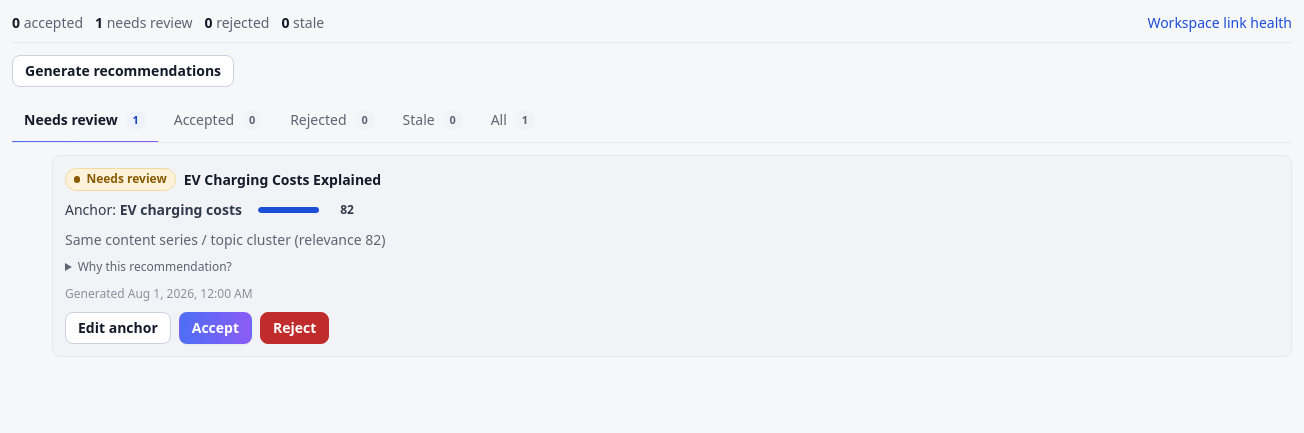
InternalLinkRecommendations › expands the evidence disclosure to show structured, non-JSON factors
This screenshot has width=1304, height=433.
Expected: the text "EV Charging Costs Explained" is shown, [184,169,381,190]
Click the heading "Why this recommendation?" at (155,267), box [78,258,232,275]
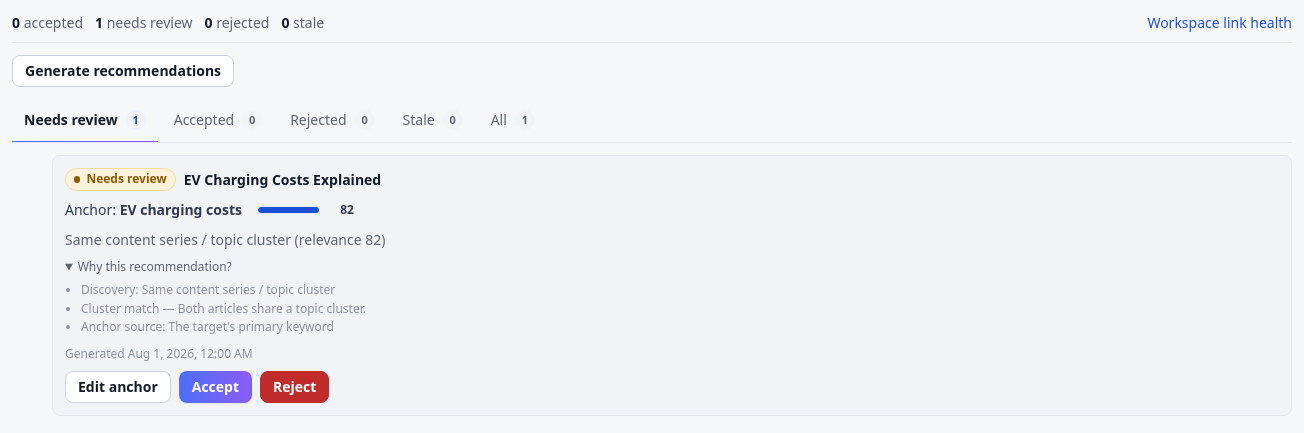
Result: the list item "Cluster match — Both articles share a topic cluster." is shown at [81,300,366,316]
Result: the list item "Anchor source: The target's primary keyword" is shown at [81,318,334,335]
